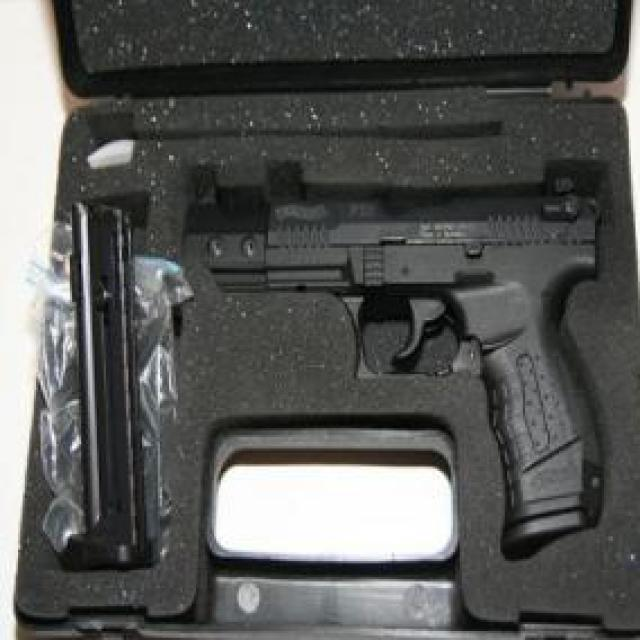pistol: (180, 172, 603, 564)
